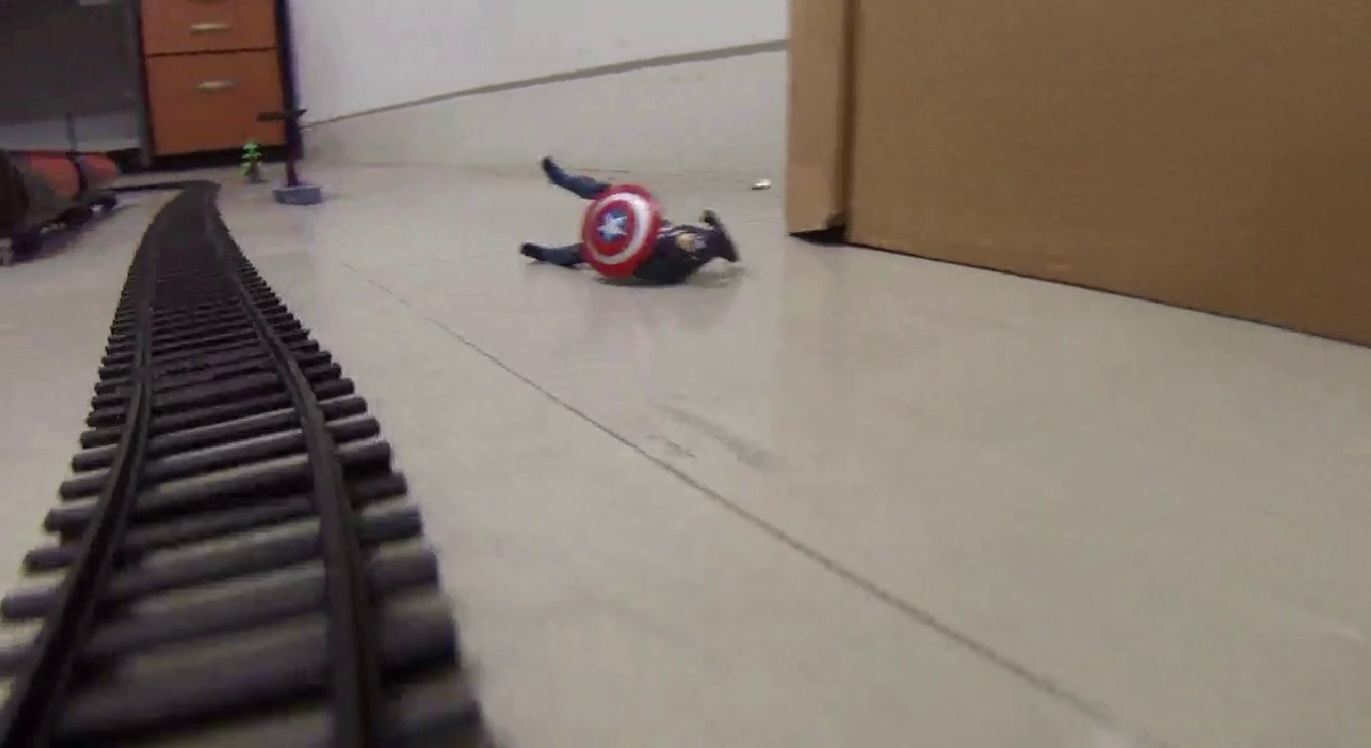people: (522, 157, 742, 284)
